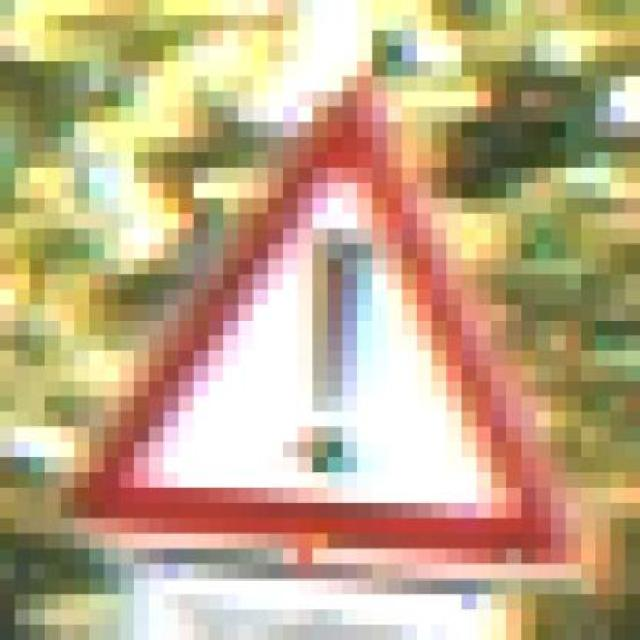Attention Please-: (37, 89, 603, 576)
